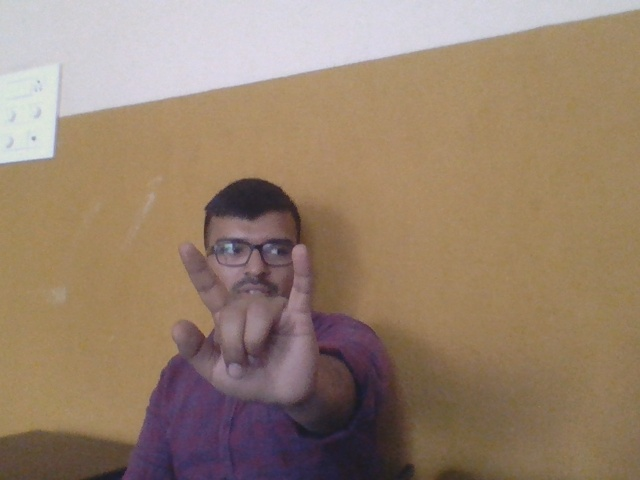I Love You: (164, 217, 325, 402)
